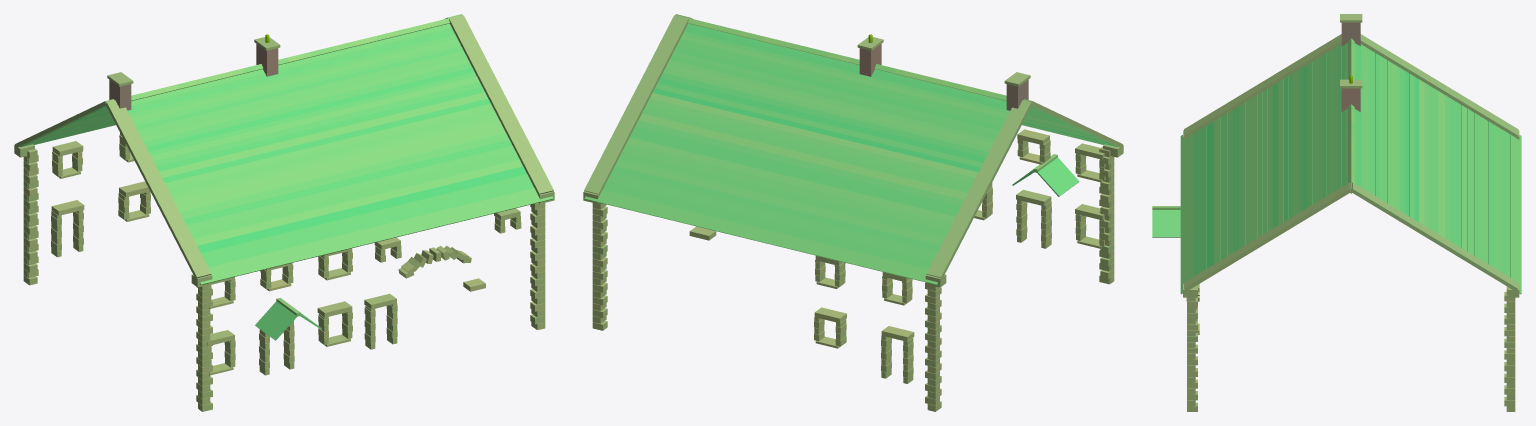
Rendered from SM_Bld_024_Stone.glb.
3 renders of one model, left to right at view 1: azimuth 30°, elevation 25°; view 2: azimuth 150°, elevation 25°; view 3: azimuth 270°, elevation 25°, orthographic. The views are drawn at different scales.
Parts seen in each view (by area): view 1: SM_Bld_024_Stone; view 2: SM_Bld_024_Stone; view 3: SM_Bld_024_Stone.
Boxes of the visible parts, box(x1,y1,x2,y2) form: SM_Bld_024_Stone: box(14, 14, 554, 411); SM_Bld_024_Stone: box(583, 14, 1123, 411); SM_Bld_024_Stone: box(1152, 14, 1521, 411).
Size of the model in its own units: 17.66 by 12.93 by 17.24.
